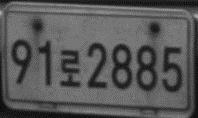1: (36, 39, 52, 88)
2: (86, 41, 109, 90)
5: (161, 46, 183, 92)
8: (110, 41, 133, 91), (136, 43, 158, 91)
9: (10, 39, 33, 85)
로: (58, 49, 82, 89)
